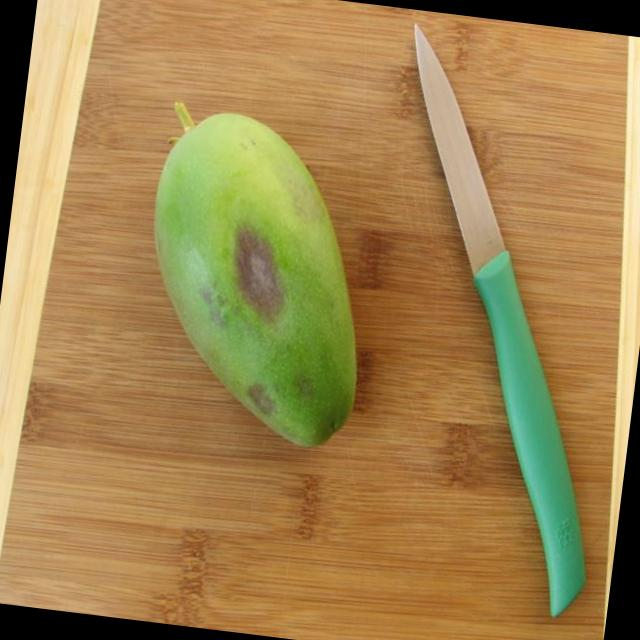Knife: (415, 26, 585, 614)
